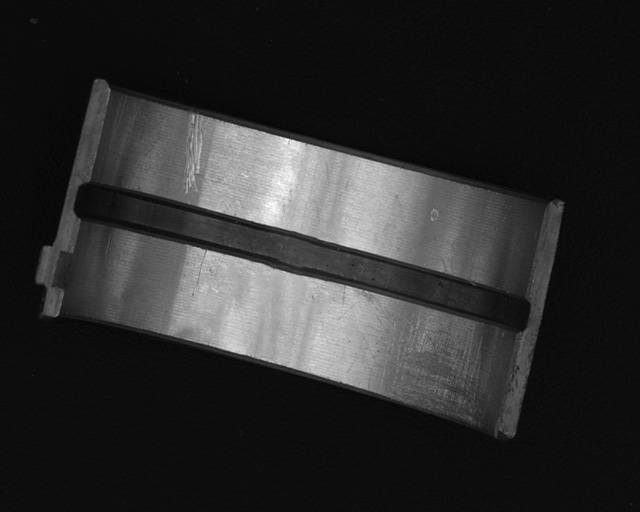bruise: (428, 208, 439, 222)
gap: (72, 182, 530, 333)
nick: (182, 110, 204, 197), (189, 247, 207, 298)
scratch: (352, 287, 497, 429)
